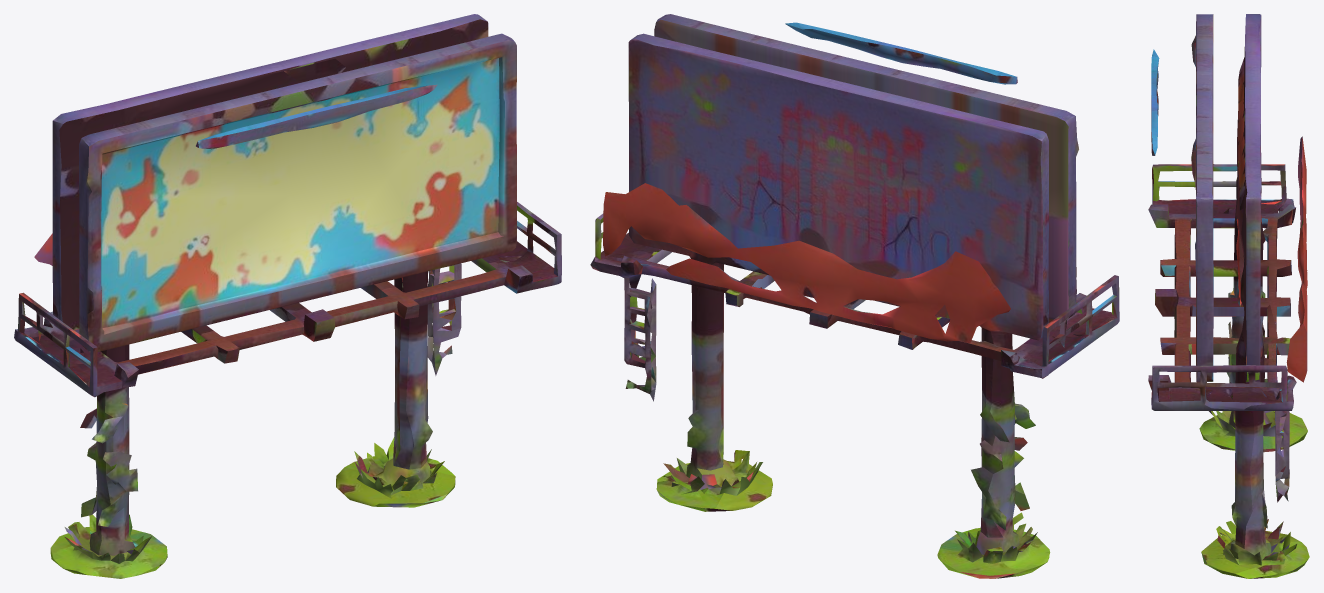
File: ruin_billboard.glb
The picture shows the model from 3 angles, left to right: view 1: azimuth 30°, elevation 25°; view 2: azimuth 150°, elevation 25°; view 3: azimuth 270°, elevation 25°; orthographic projection. The views are drawn at different scales.
Parts seen in each view (by area): view 1: ruin_billboard; view 2: ruin_billboard; view 3: ruin_billboard.
Boxes of the visible parts, box(x1,y1,x2,y2) form: ruin_billboard: box(14, 14, 561, 578); ruin_billboard: box(590, 14, 1119, 578); ruin_billboard: box(1148, 14, 1309, 578).
Bounding box in the file's own units: 1 × 0.9053 × 0.3327.
Materials: 1 (1 with a texture image).
